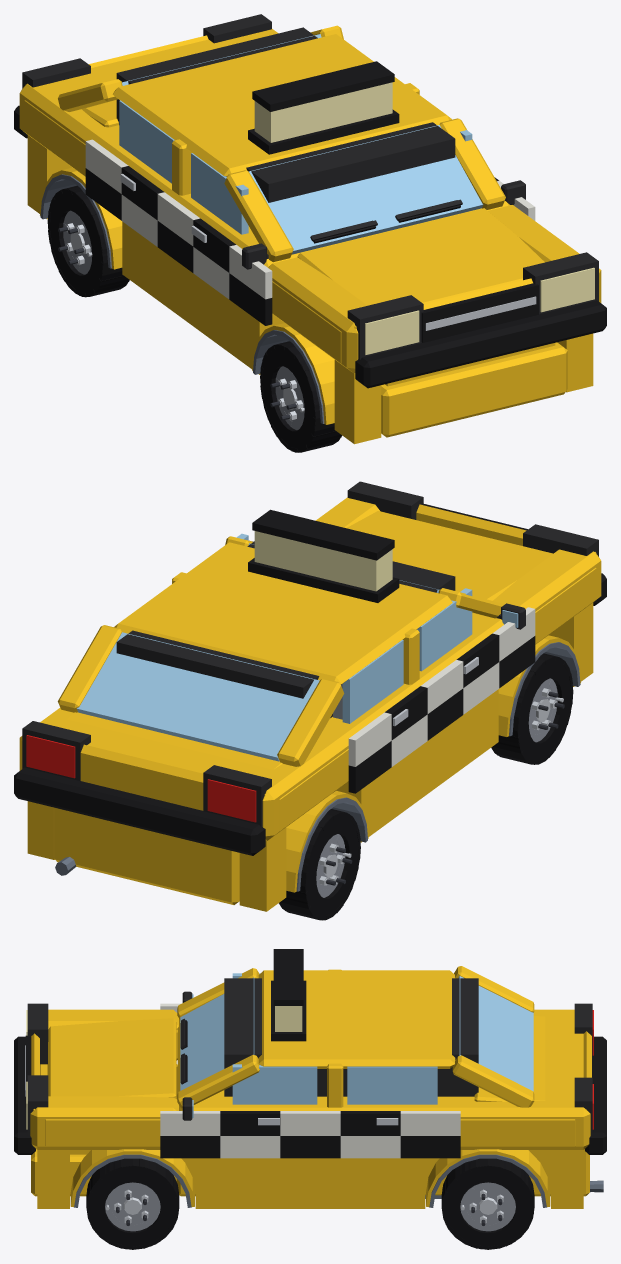
Rendered from Taxi.glb.
3 renders of one model, top to bottom at view 1: azimuth 30°, elevation 25°; view 2: azimuth 150°, elevation 25°; view 3: azimuth 270°, elevation 25°, orthographic. The views are drawn at different scales.
Parts seen in each view (by area): view 1: Body, Hood, Windscreen, TaxiSign, WheelRR, WheelFR, LampL, LampR, WiperR, WiperL; view 2: Body, TaxiSign, Hood, WheelFR, WheelRR; view 3: Body, Hood, WheelRL, WheelFL, Windscreen, TaxiSign, RotorFL, RotorRL.
Part boxes in pixels (box(x1,y1,x2,y2)): Body: box(14, 14, 606, 444); Hood: box(297, 208, 544, 305); Windscreen: box(249, 125, 483, 254); TaxiSign: box(248, 61, 399, 154); WheelRR: box(47, 185, 129, 297); WheelFR: box(260, 341, 341, 452); LampL: box(540, 267, 594, 312); LampR: box(365, 310, 419, 354); WiperR: box(310, 220, 377, 243); WiperL: box(395, 199, 462, 222); Body: box(14, 481, 606, 911); TaxiSign: box(248, 509, 399, 602); Hood: box(346, 511, 552, 600); WheelFR: box(491, 653, 573, 764); WheelRR: box(279, 809, 360, 920); Body: box(14, 966, 606, 1208); Hood: box(48, 1018, 176, 1098); WheelRL: box(441, 1158, 534, 1249); WheelFL: box(86, 1158, 179, 1249); Windscreen: box(180, 977, 254, 1090); TaxiSign: box(271, 949, 306, 1041); RotorFL: box(115, 1189, 150, 1225); RotorRL: box(470, 1189, 505, 1225).
Size of the model in its own units: 1.98 by 1.8 by 4.34.
